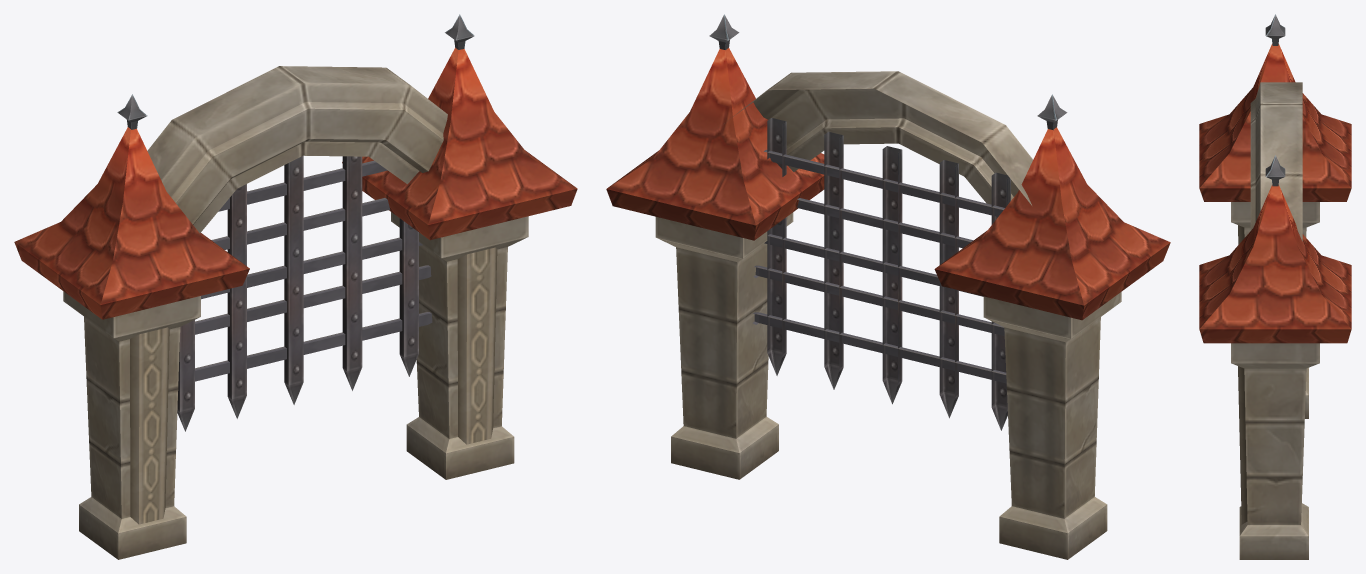
File: door_1.FBX
The picture shows the model from 3 angles, left to right: view 1: azimuth 30°, elevation 25°; view 2: azimuth 150°, elevation 25°; view 3: azimuth 270°, elevation 25°; orthographic projection. The views are drawn at different scales.
Parts seen in each view (by area): view 1: door_1; view 2: door_1; view 3: door_1.
Boxes of the visible parts, box(x1,y1,x2,y2) form: door_1: box(14, 14, 577, 559); door_1: box(606, 14, 1170, 559); door_1: box(1199, 14, 1351, 559).
Size of the model in its own units: 147 by 130 by 45.98.
